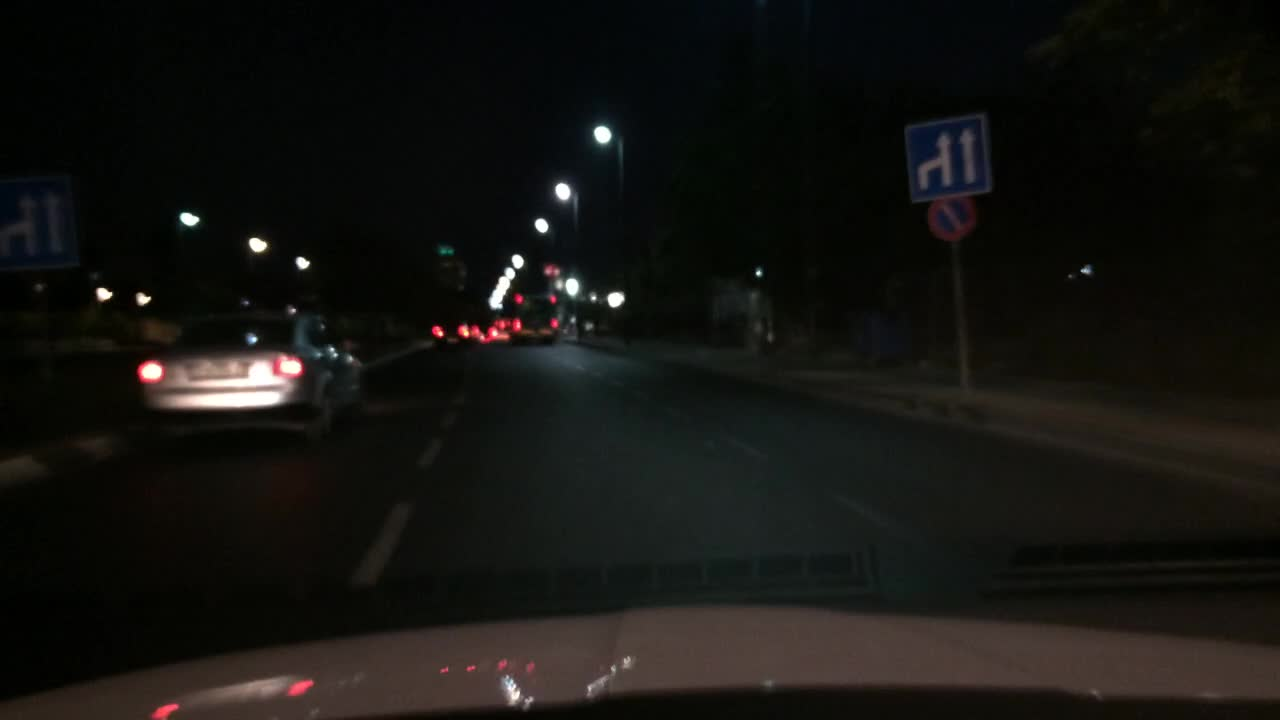car: (135, 302, 369, 451), (507, 292, 563, 344), (429, 311, 483, 349), (489, 321, 508, 338)
traffic light: (438, 247, 455, 255), (548, 267, 559, 275)
traffic sign: (1, 171, 79, 267), (903, 118, 988, 198), (920, 199, 980, 235)
